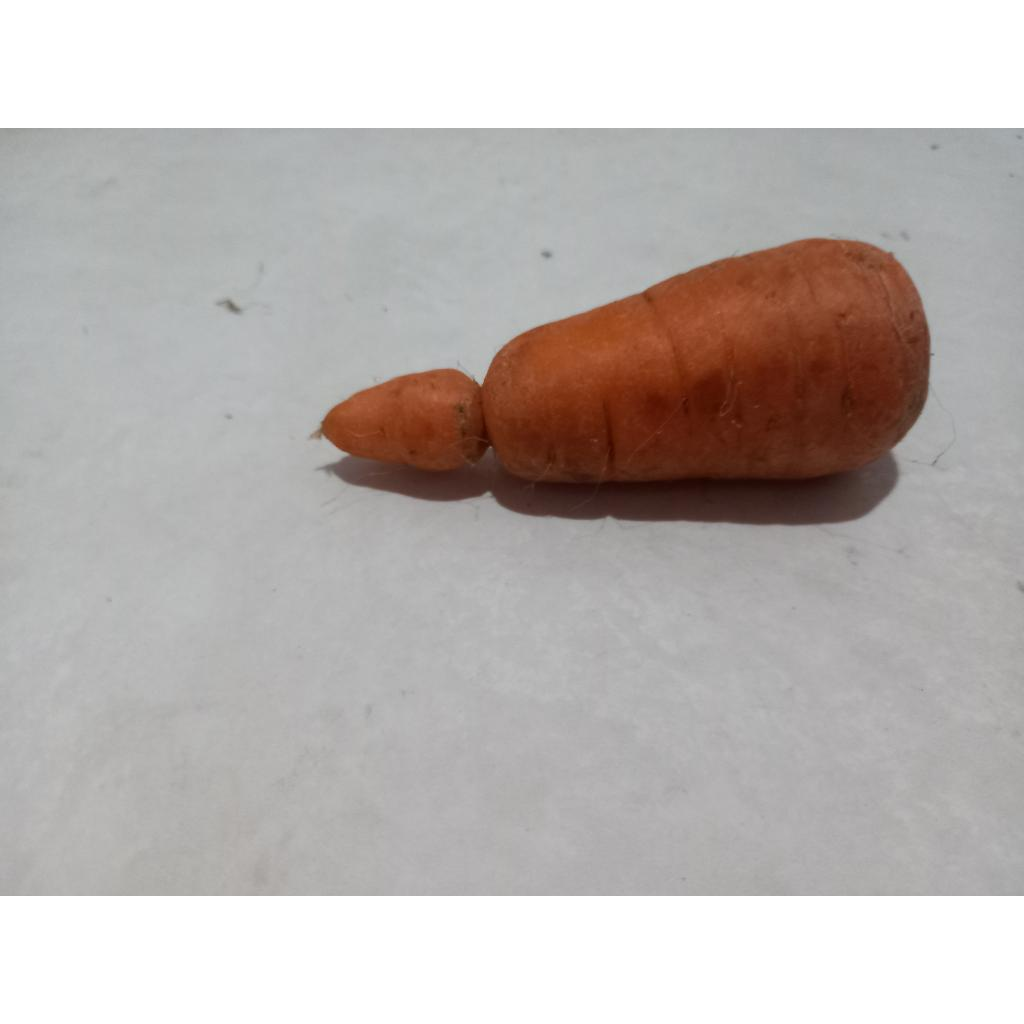carrot: (320, 240, 930, 482)
